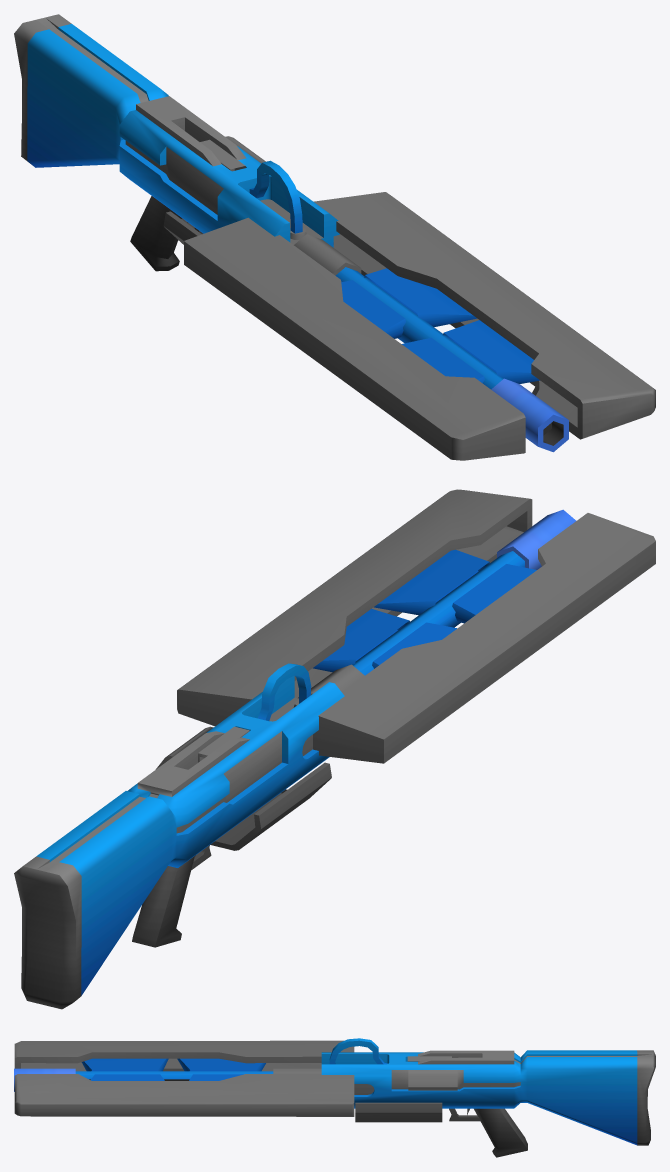
File: LV8_Weapon.fbx
3 renders of one model, top to bottom at view 1: azimuth 30°, elevation 25°; view 2: azimuth 150°, elevation 25°; view 3: azimuth 270°, elevation 25°, orthographic. The views are drawn at different scales.
Visible parts, largest first — view 1: LV8_Weapon; view 2: LV8_Weapon; view 3: LV8_Weapon.
Boxes of the visible parts, bbox=[...] form: LV8_Weapon: bbox=[14, 14, 655, 460]; LV8_Weapon: bbox=[14, 489, 655, 1009]; LV8_Weapon: bbox=[14, 1038, 655, 1157].
Bounding box in the file's own units: 32.06 × 27.48 × 140.
Materials: 1 (1 with a texture image).
